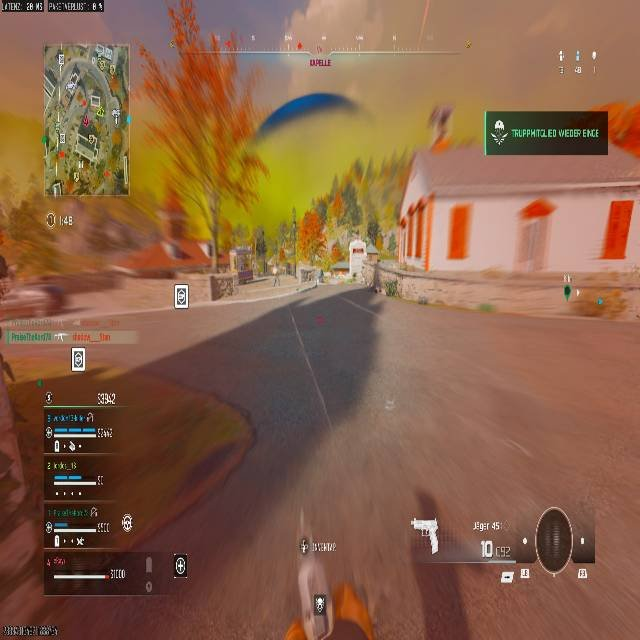player: (272, 265, 281, 286)
